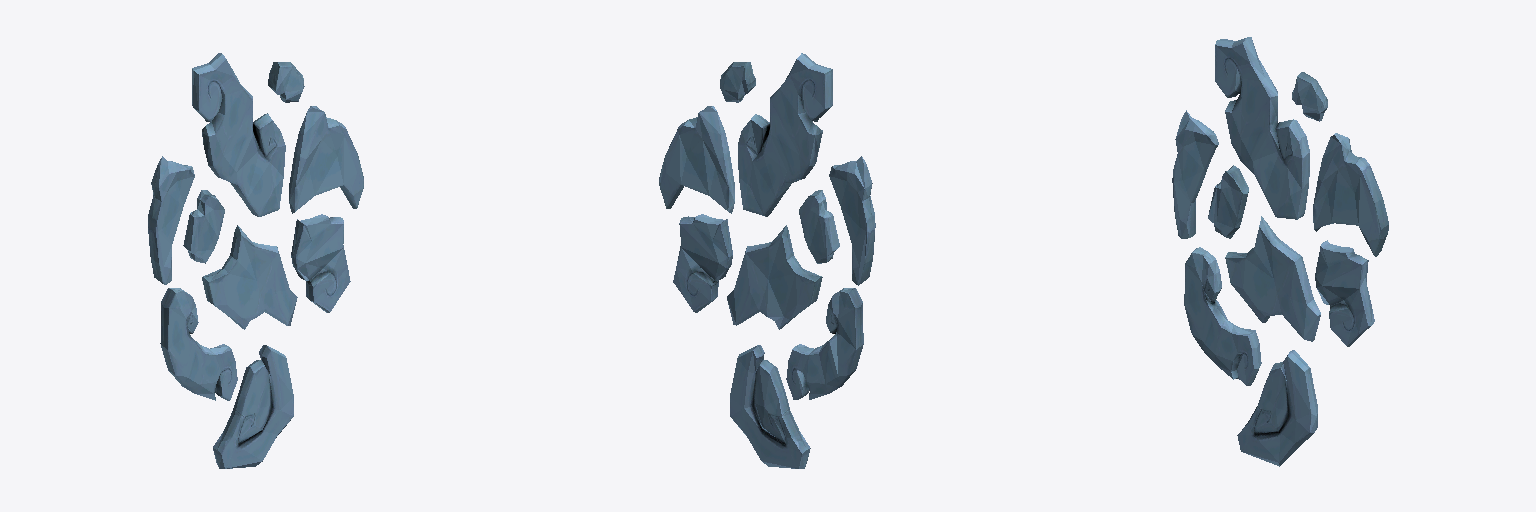
3 views of the same model, side by side, from view 1: azimuth 30°, elevation 25°; view 2: azimuth 150°, elevation 25°; view 3: azimuth 330°, elevation 25° (orthographic).
Parts seen in each view (by area): view 1: Object.1; view 2: Object.1; view 3: Object.1.
Part boxes in pixels (left/top/right/bottom): Object.1: left=148, top=53, right=363, bottom=468; Object.1: left=659, top=53, right=875, bottom=468; Object.1: left=1172, top=37, right=1388, bottom=466.
Size of the model in its own units: 602704 by 1157447 by 47686.
Materials: 1 (1 with a texture image).